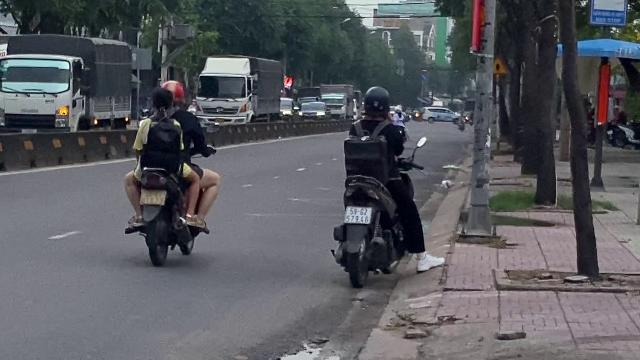helmet: (360, 86, 392, 118), (162, 80, 184, 104)
licenseplate: (344, 206, 372, 222), (140, 189, 164, 203)
motorcyclist: (330, 84, 426, 286), (121, 78, 221, 266)
nohelmet: (150, 86, 172, 114)
